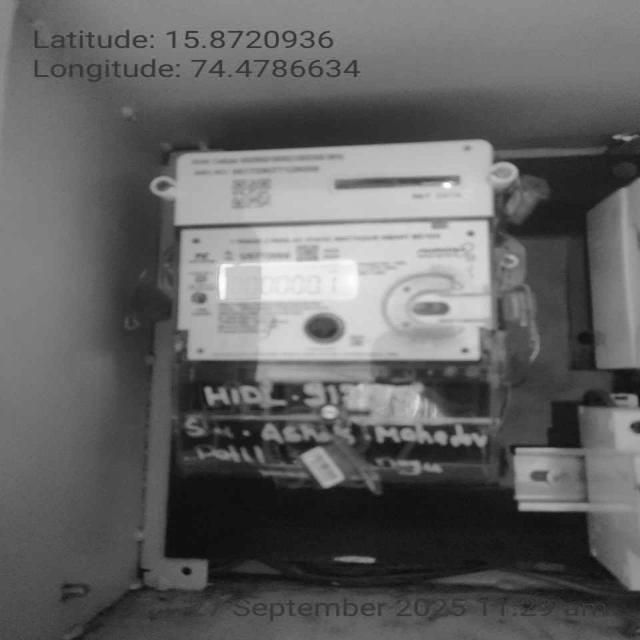meter: (169, 145, 496, 370)
